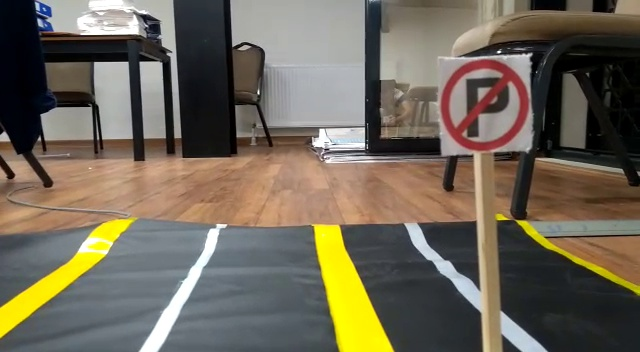park_yapilmaz: (437, 59, 531, 152)
